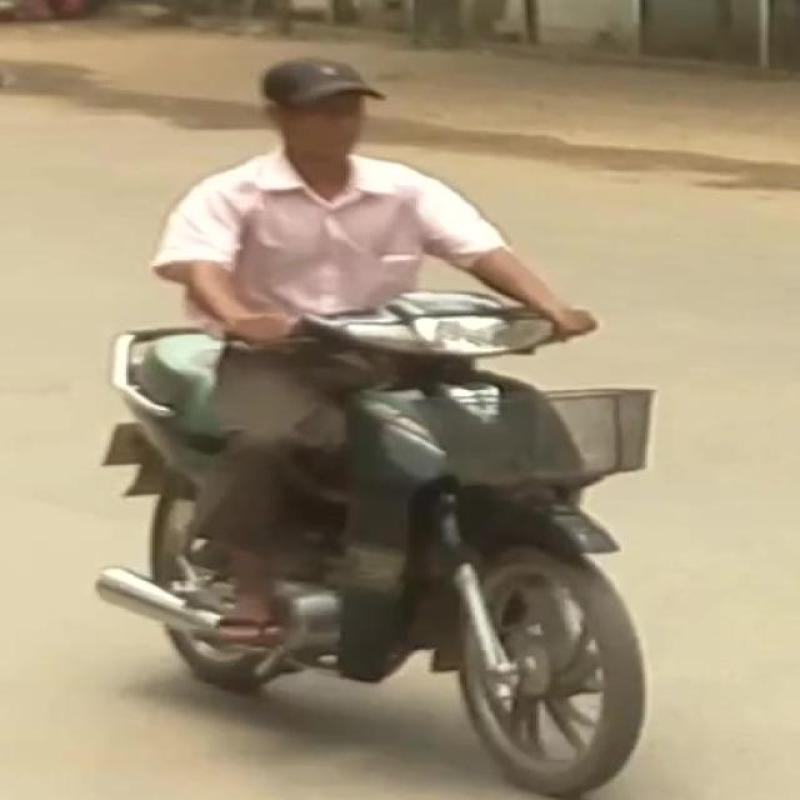nohelmet: (266, 36, 420, 166)
